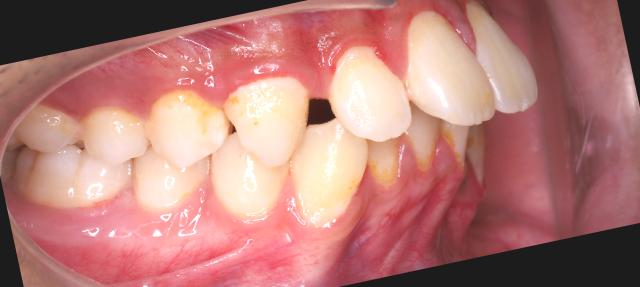canine class III 1/4: (188, 51, 380, 252)
molar class III 1/2: (0, 86, 142, 237)
